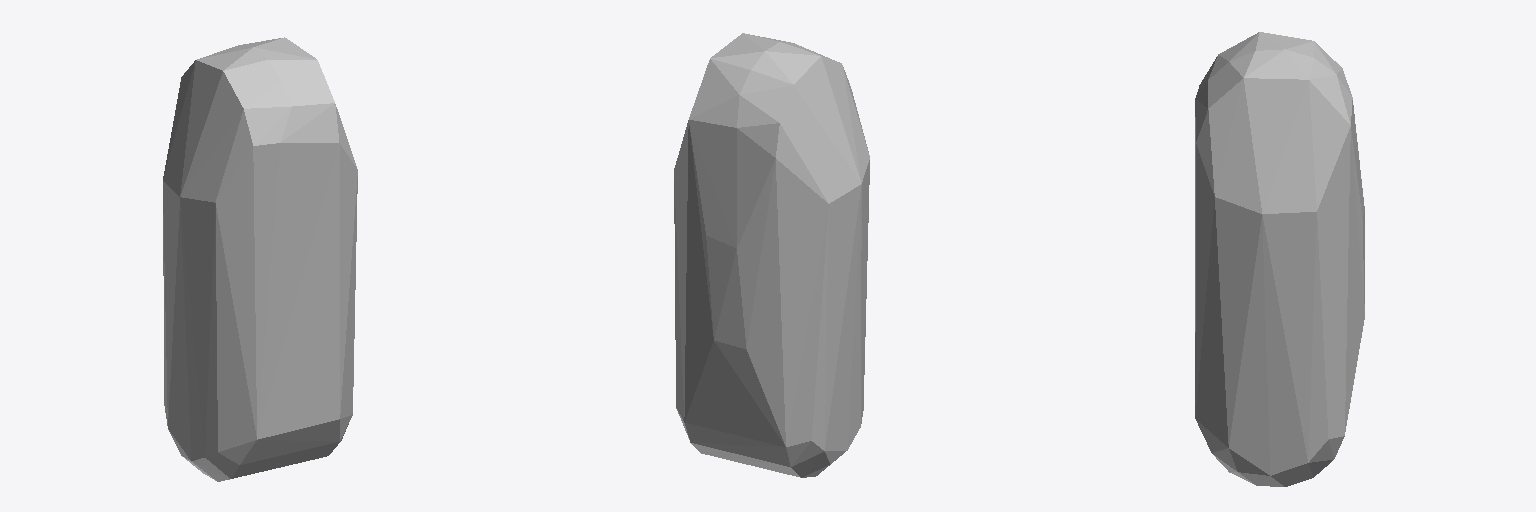
File: index_inter_col.obj
3 renders of one model, left to right at view 1: azimuth 30°, elevation 25°; view 2: azimuth 150°, elevation 25°; view 3: azimuth 270°, elevation 25°, orthographic.
Size of the model in its own units: 0.0206 by 0.0479 by 0.0178.